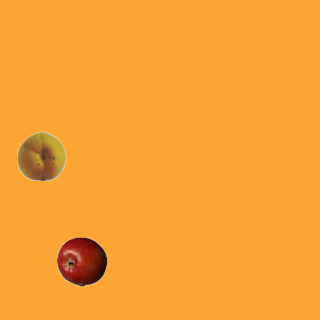Apple Braeburn: (56, 236, 106, 286)
Peach 2: (16, 130, 66, 180)
